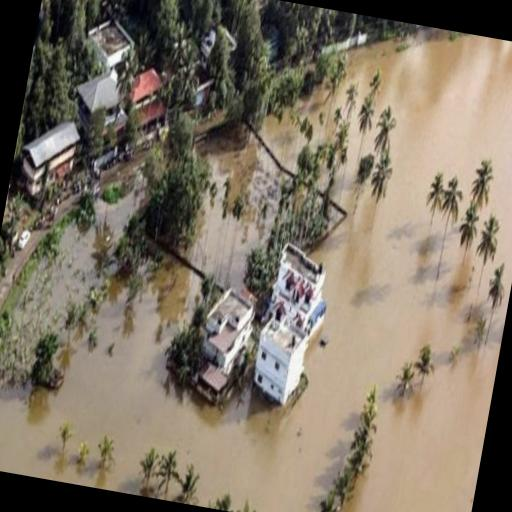flood: (0, 35, 512, 512)
house: (242, 240, 330, 414), (190, 282, 260, 390), (14, 114, 82, 220), (76, 65, 126, 118)
